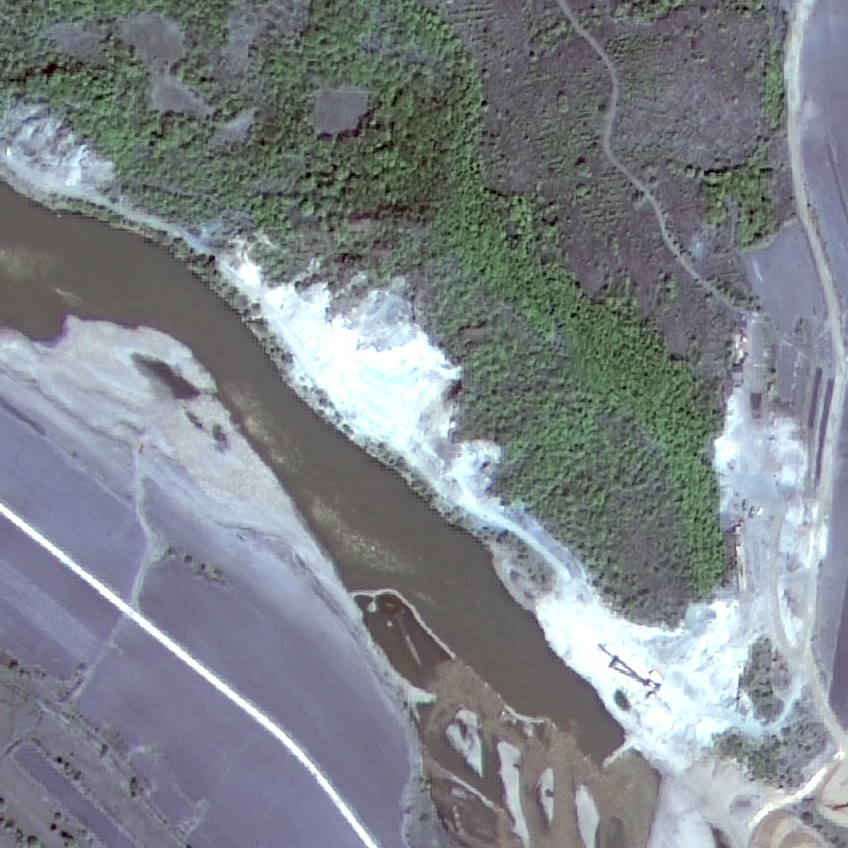slope: (531, 382, 826, 782), (225, 228, 508, 523), (0, 101, 120, 194)
